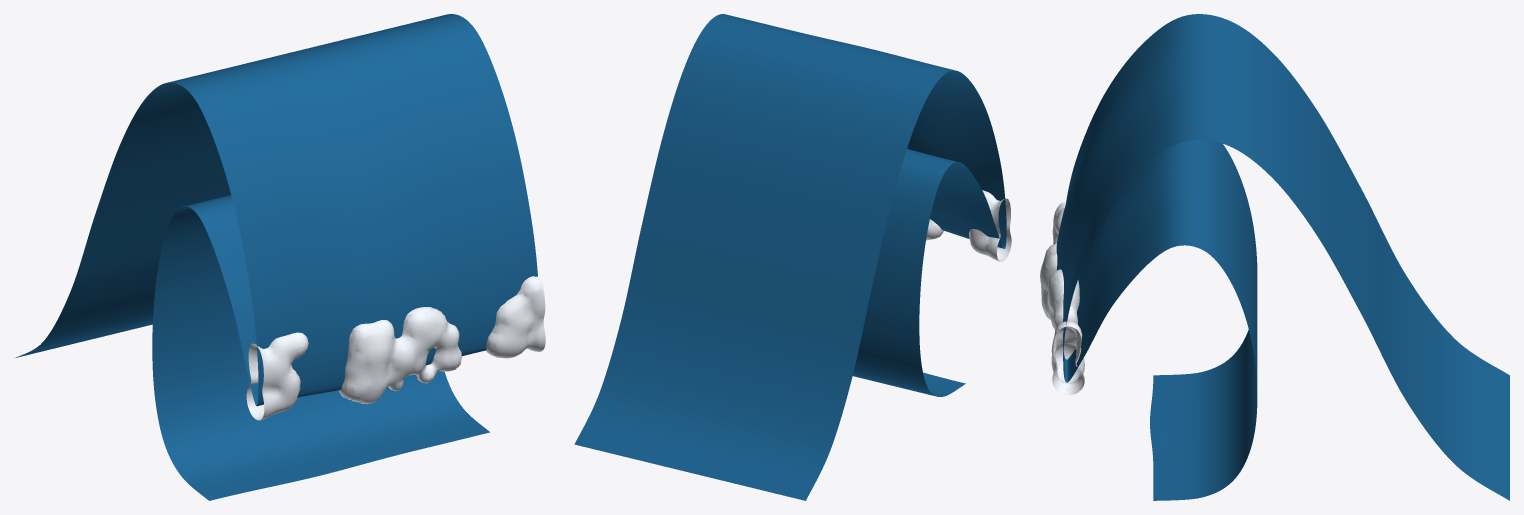
File: wave_tile_0.obj
3 renders of one model, left to right at view 1: azimuth 30°, elevation 25°; view 2: azimuth 150°, elevation 25°; view 3: azimuth 270°, elevation 25°, orthographic. The views are drawn at different scales.
Visible parts, largest first — view 1: wave_body_0, wave_foam_0; view 2: wave_body_0, wave_foam_0; view 3: wave_body_0, wave_foam_0.
Boxes of the visible parts, x1=… form: wave_body_0: x1=15, y1=14, x2=537, y2=500; wave_foam_0: x1=246, y1=276, x2=545, y2=420; wave_body_0: x1=574, y1=14, x2=1006, y2=500; wave_foam_0: x1=926, y1=190, x2=1011, y2=261; wave_body_0: x1=1056, y1=14, x2=1509, y2=500; wave_foam_0: x1=1040, y1=202, x2=1084, y2=395.
Size of the model in its own units: 3 by 4.03 by 4.74.
